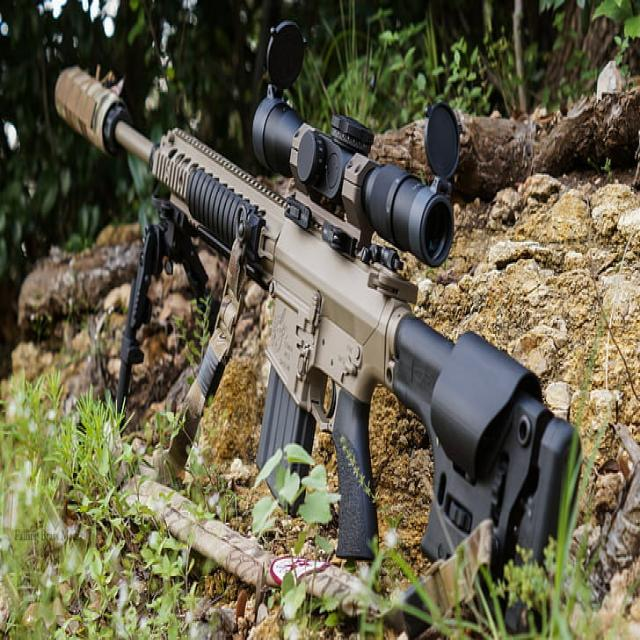Rifle: (54, 69, 580, 584)
